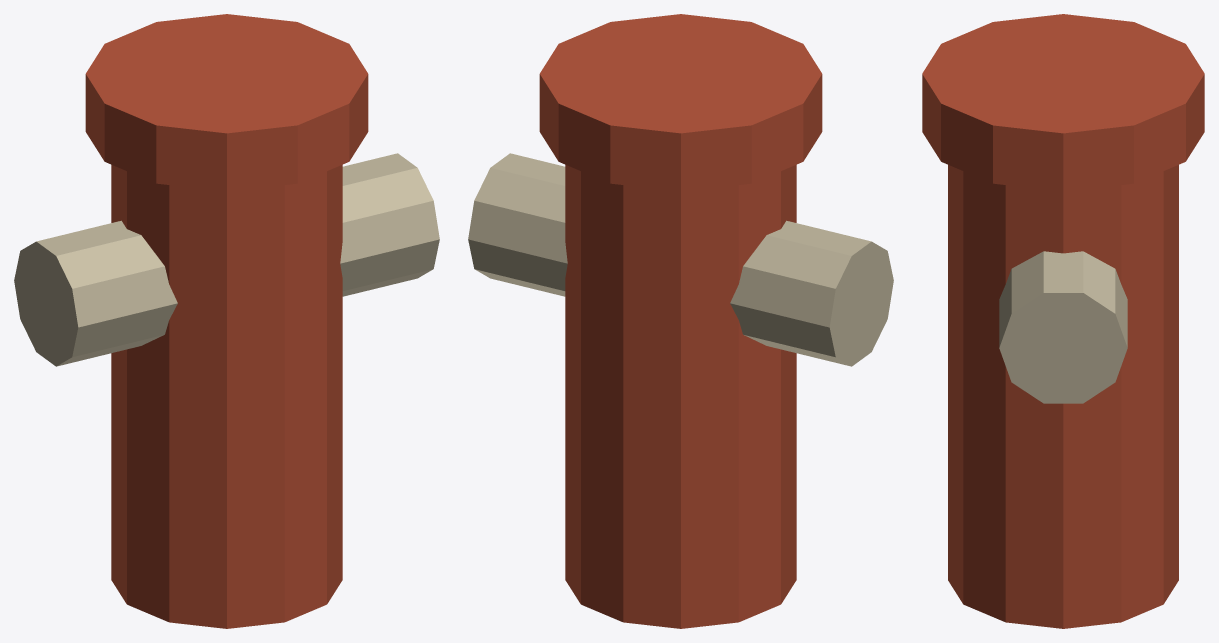
File: fire_hydrant.glb
The picture shows the model from 3 angles, left to right: view 1: azimuth 30°, elevation 25°; view 2: azimuth 150°, elevation 25°; view 3: azimuth 270°, elevation 25°; orthographic projection.
Visible parts, largest first — view 1: fire_hydrant; view 2: fire_hydrant; view 3: fire_hydrant.
Boxes of the visible parts, bbox=[...] form: fire_hydrant: bbox=[14, 14, 439, 628]; fire_hydrant: bbox=[468, 14, 893, 628]; fire_hydrant: bbox=[922, 14, 1204, 628].
Size of the model in its own units: 0.65 by 0.87 by 0.44.
